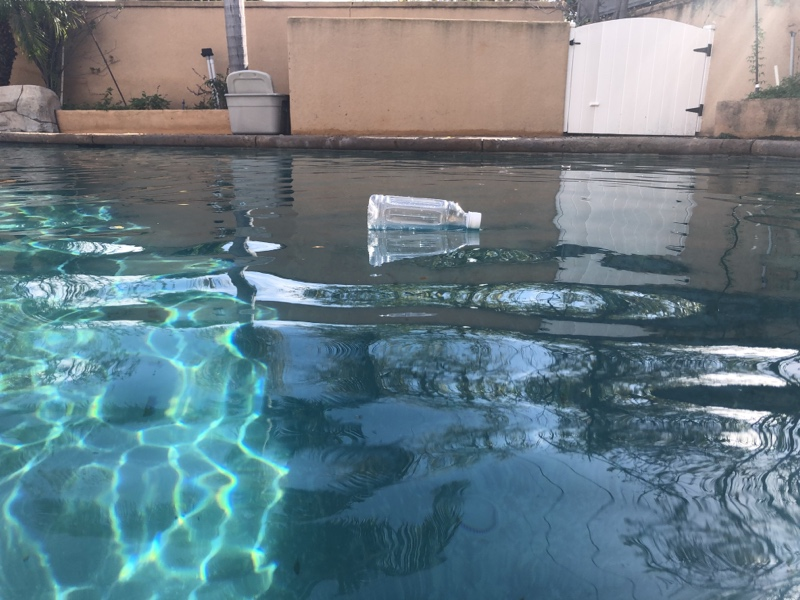Plastic Bottle: (365, 187, 485, 234)
